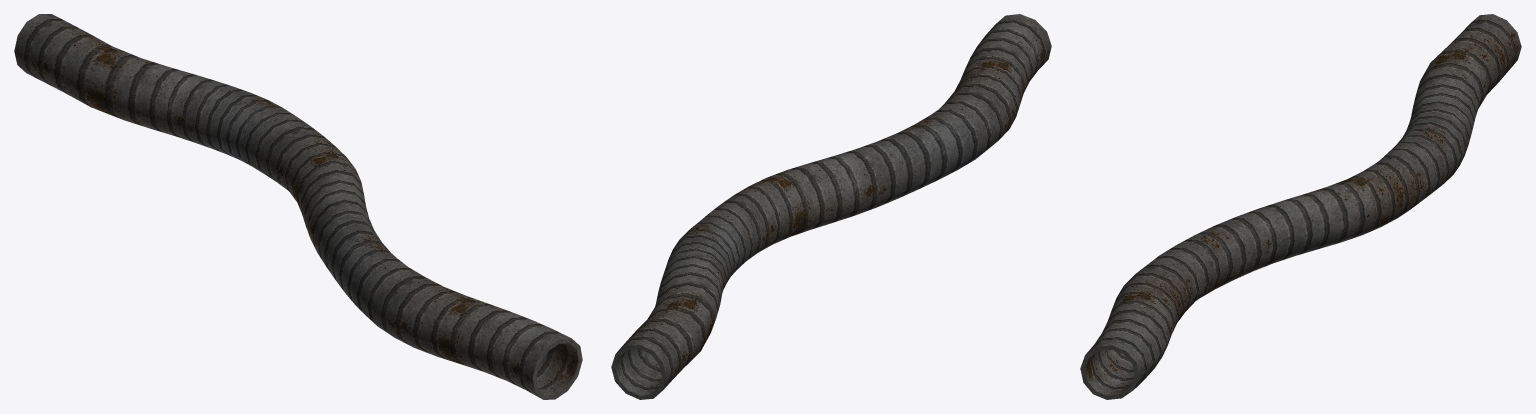
The model's file is pipe_e_2.glb.
The picture shows the model from 3 angles, left to right: view 1: azimuth 30°, elevation 25°; view 2: azimuth 150°, elevation 25°; view 3: azimuth 330°, elevation 25°; orthographic projection. The views are drawn at different scales.
Visible parts, largest first — view 1: pipe_e_2; view 2: pipe_e_2; view 3: pipe_e_2.
Part boxes in pixels (<box>): pipe_e_2: <box>14,14,582,399</box>; pipe_e_2: <box>611,14,1051,399</box>; pipe_e_2: <box>1080,14,1521,399</box>.
Size of the model in its own units: 0.5889 by 0.2502 by 3.61.
1 material, 1 textured.
